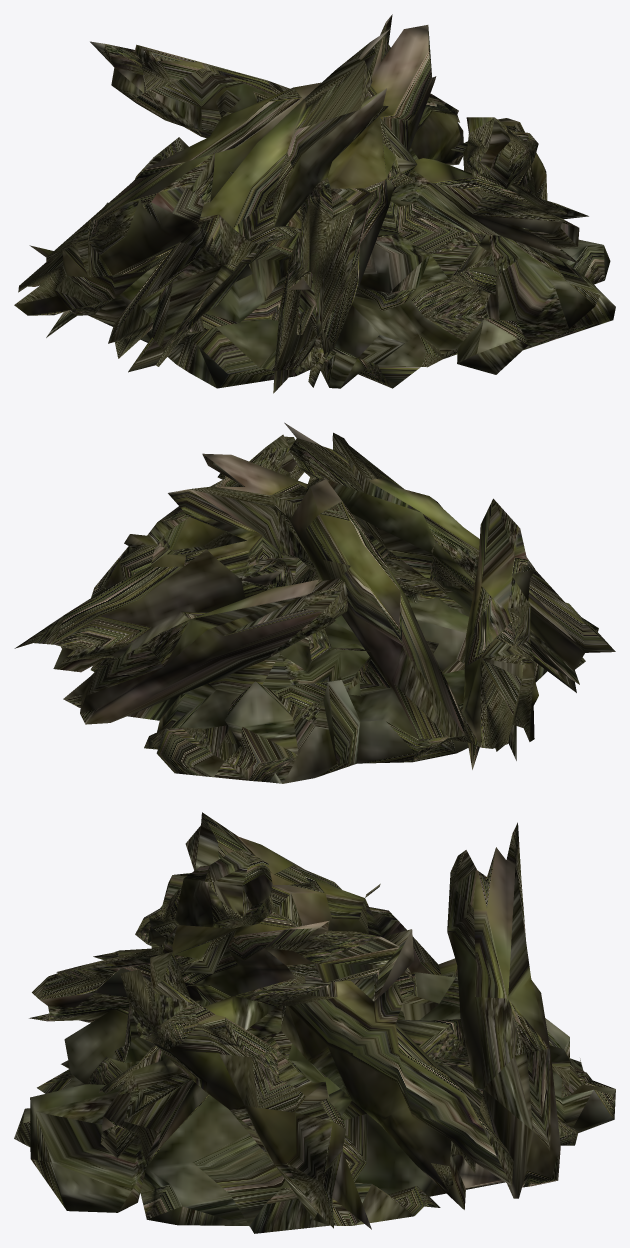
Rendered from Mossy_Timber_Ruins.glb.
The picture shows the model from 3 angles, top to bottom: view 1: azimuth 30°, elevation 25°; view 2: azimuth 150°, elevation 25°; view 3: azimuth 270°, elevation 25°; orthographic projection. The views are drawn at different scales.
Parts seen in each view (by area): view 1: Mossy_Timber_Ruins; view 2: Mossy_Timber_Ruins; view 3: Mossy_Timber_Ruins.
Part boxes in pixels (x1=…): Mossy_Timber_Ruins: x1=14, y1=14, x2=615, y2=393; Mossy_Timber_Ruins: x1=14, y1=422, x2=615, y2=783; Mossy_Timber_Ruins: x1=14, y1=812, x2=615, y2=1233.
Bounding box in the file's own units: 1.88 × 0.9383 × 1.75.
Materials: 1 (1 with a texture image).
